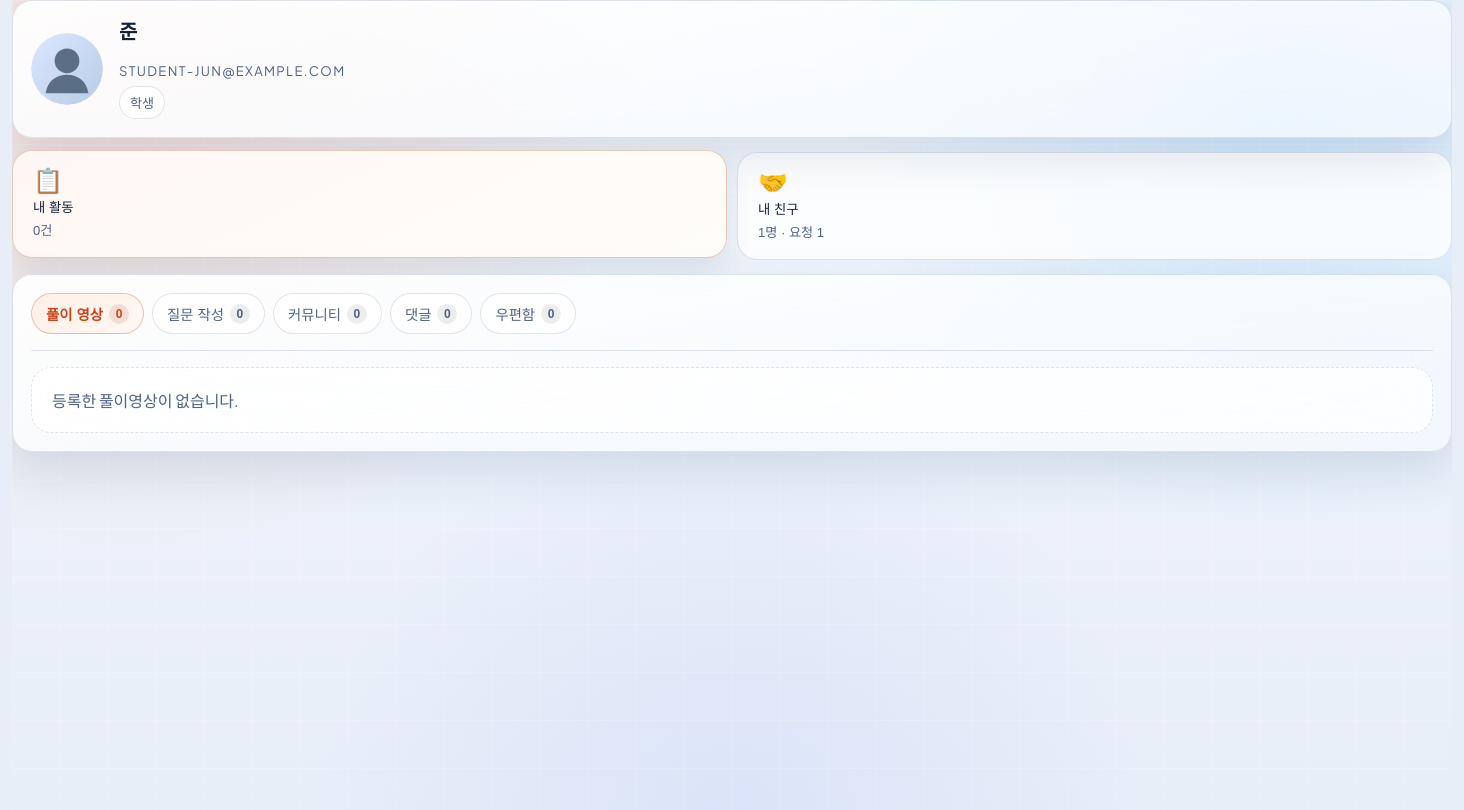
ProfilePanel (unit) › 댓글 옆 우편함 탭에서 알림을 확인할 수 있다
Expected: the tab "댓글 0" is shown, [390, 293, 472, 334]
Click the tab "우편함 0" at (528, 314), box [480, 293, 576, 334]
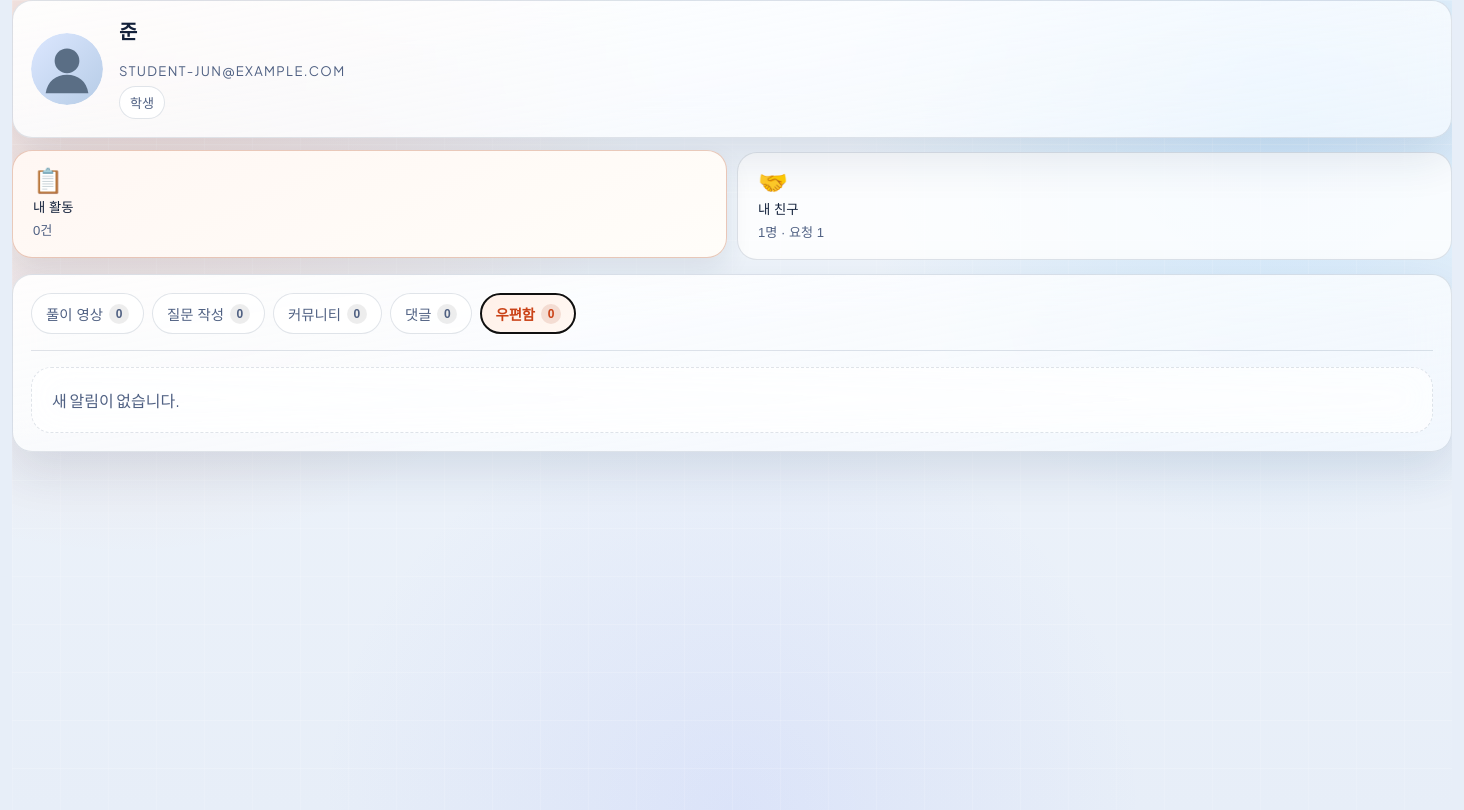
Now the text "새 알림이 없습니다." is shown, box [31, 367, 1433, 433]
